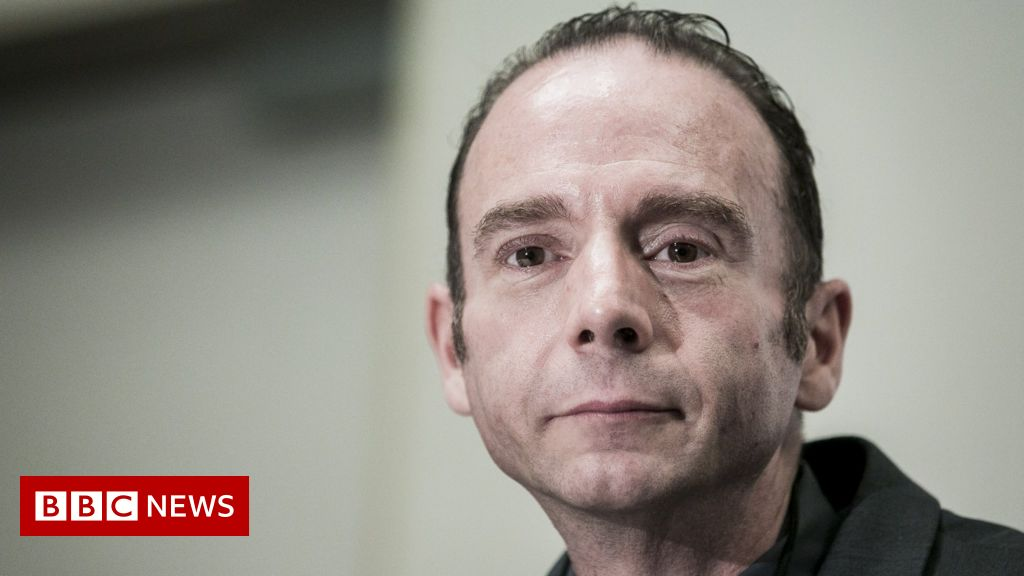person: (409, 3, 959, 576)
